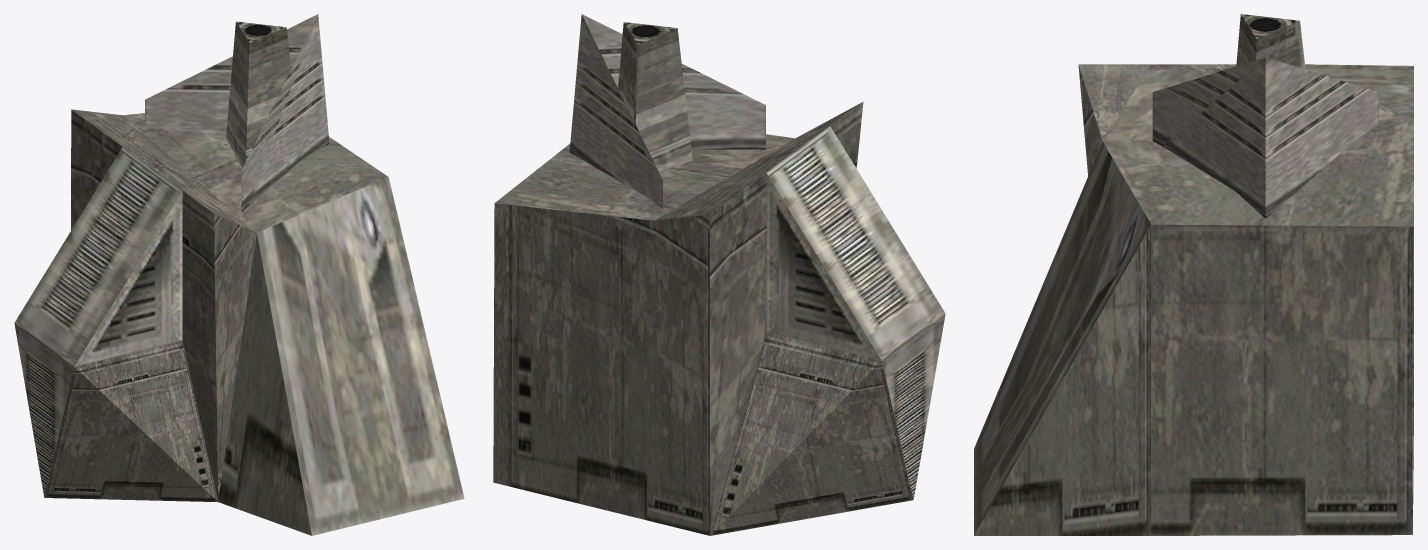
The model's file is ins_all_mobile_ore_refinery_l3.fbx.
The picture shows the model from 3 angles, left to right: view 1: azimuth 30°, elevation 25°; view 2: azimuth 150°, elevation 25°; view 3: azimuth 270°, elevation 25°; orthographic projection. The views are drawn at different scales.
Parts seen in each view (by area): view 1: mesh_node; view 2: mesh_node; view 3: mesh_node.
Boxes of the visible parts, box(x1,y1,x2,y2) form: mesh_node: box(14, 14, 464, 535); mesh_node: box(493, 14, 945, 535); mesh_node: box(974, 14, 1413, 535).
Bounding box in the file's own units: 2.58 × 3.13 × 2.68.
